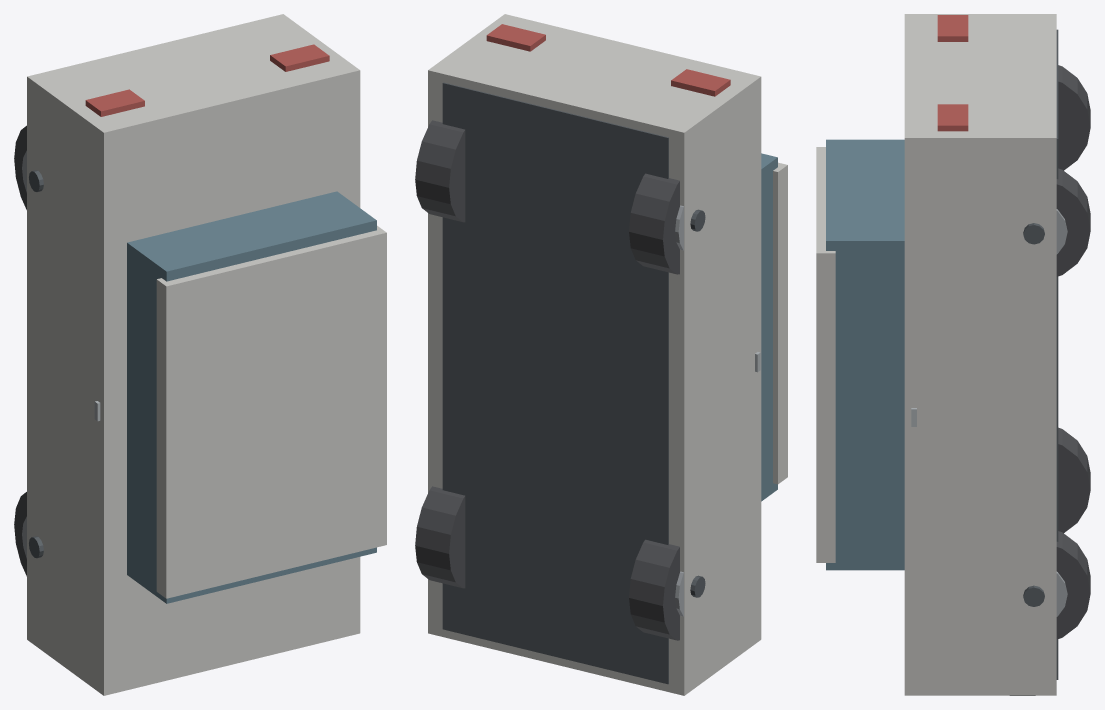
The model's file is compact_hatchback.glb.
The picture shows the model from 3 angles, left to right: view 1: azimuth 30°, elevation 25°; view 2: azimuth 150°, elevation 25°; view 3: azimuth 270°, elevation 25°; orthographic projection.
Visible parts, largest first — view 1: 0000_Car_body, 0003_Roof, 0002_Cabin_glass, 0007_Tail_lamp, 0009_Tail_lamp, 0018_Wheel_tire, 0012_Wheel_tire; view 2: 0001_Chassis_black, 0000_Car_body, 0003_Roof, 0015_Wheel_tire, 0021_Wheel_tire, 0018_Wheel_tire, 0012_Wheel_tire, 0002_Cabin_glass, 0007_Tail_lamp, 0009_Tail_lamp; view 3: 0000_Car_body, 0002_Cabin_glass, 0003_Roof, 0012_Wheel_tire, 0018_Wheel_tire, 0015_Wheel_tire, 0021_Wheel_tire, 0001_Chassis_black, 0009_Tail_lamp, 0007_Tail_lamp.
Boxes of the visible parts, x1,y1,x2,y2 form: 0000_Car_body: (27, 14, 360, 695); 0003_Roof: (156, 225, 386, 598); 0002_Cabin_glass: (127, 191, 376, 603); 0007_Tail_lamp: (85, 89, 144, 116); 0009_Tail_lamp: (270, 44, 329, 71); 0018_Wheel_tire: (14, 125, 26, 209); 0012_Wheel_tire: (14, 492, 26, 576); 0001_Chassis_black: (442, 82, 668, 684); 0000_Car_body: (428, 14, 761, 695); 0003_Roof: (773, 162, 787, 484); 0015_Wheel_tire: (415, 486, 465, 588); 0021_Wheel_tire: (415, 120, 465, 222); 0018_Wheel_tire: (629, 173, 679, 274); 0012_Wheel_tire: (629, 539, 679, 640); 0002_Cabin_glass: (761, 153, 777, 501); 0007_Tail_lamp: (671, 69, 730, 96); 0009_Tail_lamp: (486, 24, 545, 51); 0000_Car_body: (904, 14, 1056, 695); 0002_Cabin_glass: (826, 139, 904, 570); 0003_Roof: (816, 147, 835, 562); 0012_Wheel_tire: (1058, 427, 1090, 533); 0018_Wheel_tire: (1058, 65, 1090, 170); 0015_Wheel_tire: (1056, 531, 1090, 639); 0021_Wheel_tire: (1056, 168, 1090, 276); 0001_Chassis_black: (1056, 29, 1058, 679); 0009_Tail_lamp: (937, 104, 968, 131); 0007_Tail_lamp: (937, 15, 968, 41).
Size of the model in its own units: 1.87 by 3.9 by 1.7.
